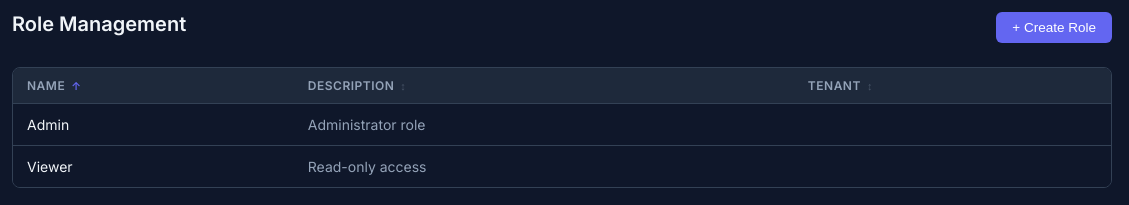
Scenario: RoleManagementPage › switching to Description column resets direction to ascending and sets sort-active
Check: the text "Admin" is shown, box [13,104,294,146]
Click the column heading "Name↑" at (153, 86), box [13,68,294,104]
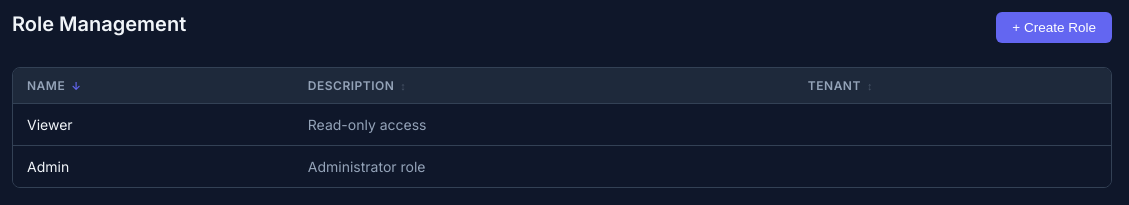
Click the column heading "Description↕" at (544, 86), box [294,68,794,104]
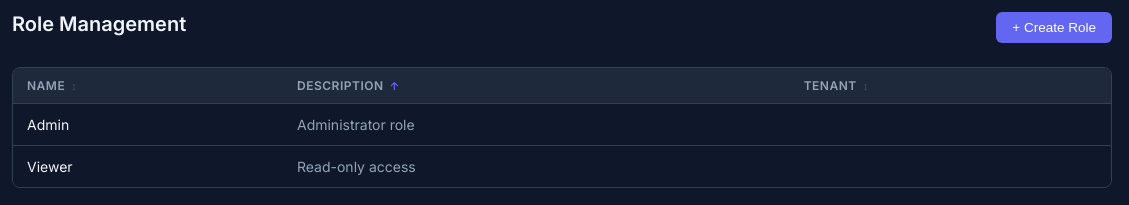
Check: the icon with class "sort-active" is shown, box [390,79,400,93]
Check: the column heading "Description↑" is shown, box [283,68,790,104]
